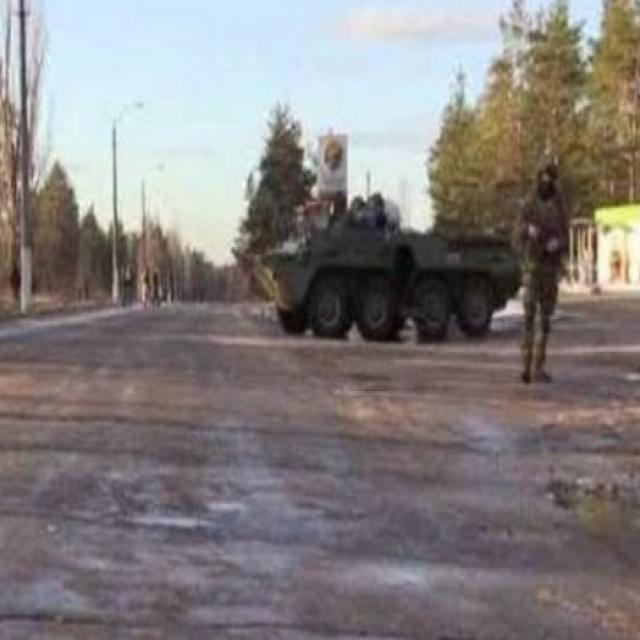MIL_APC: (253, 182, 520, 349)
